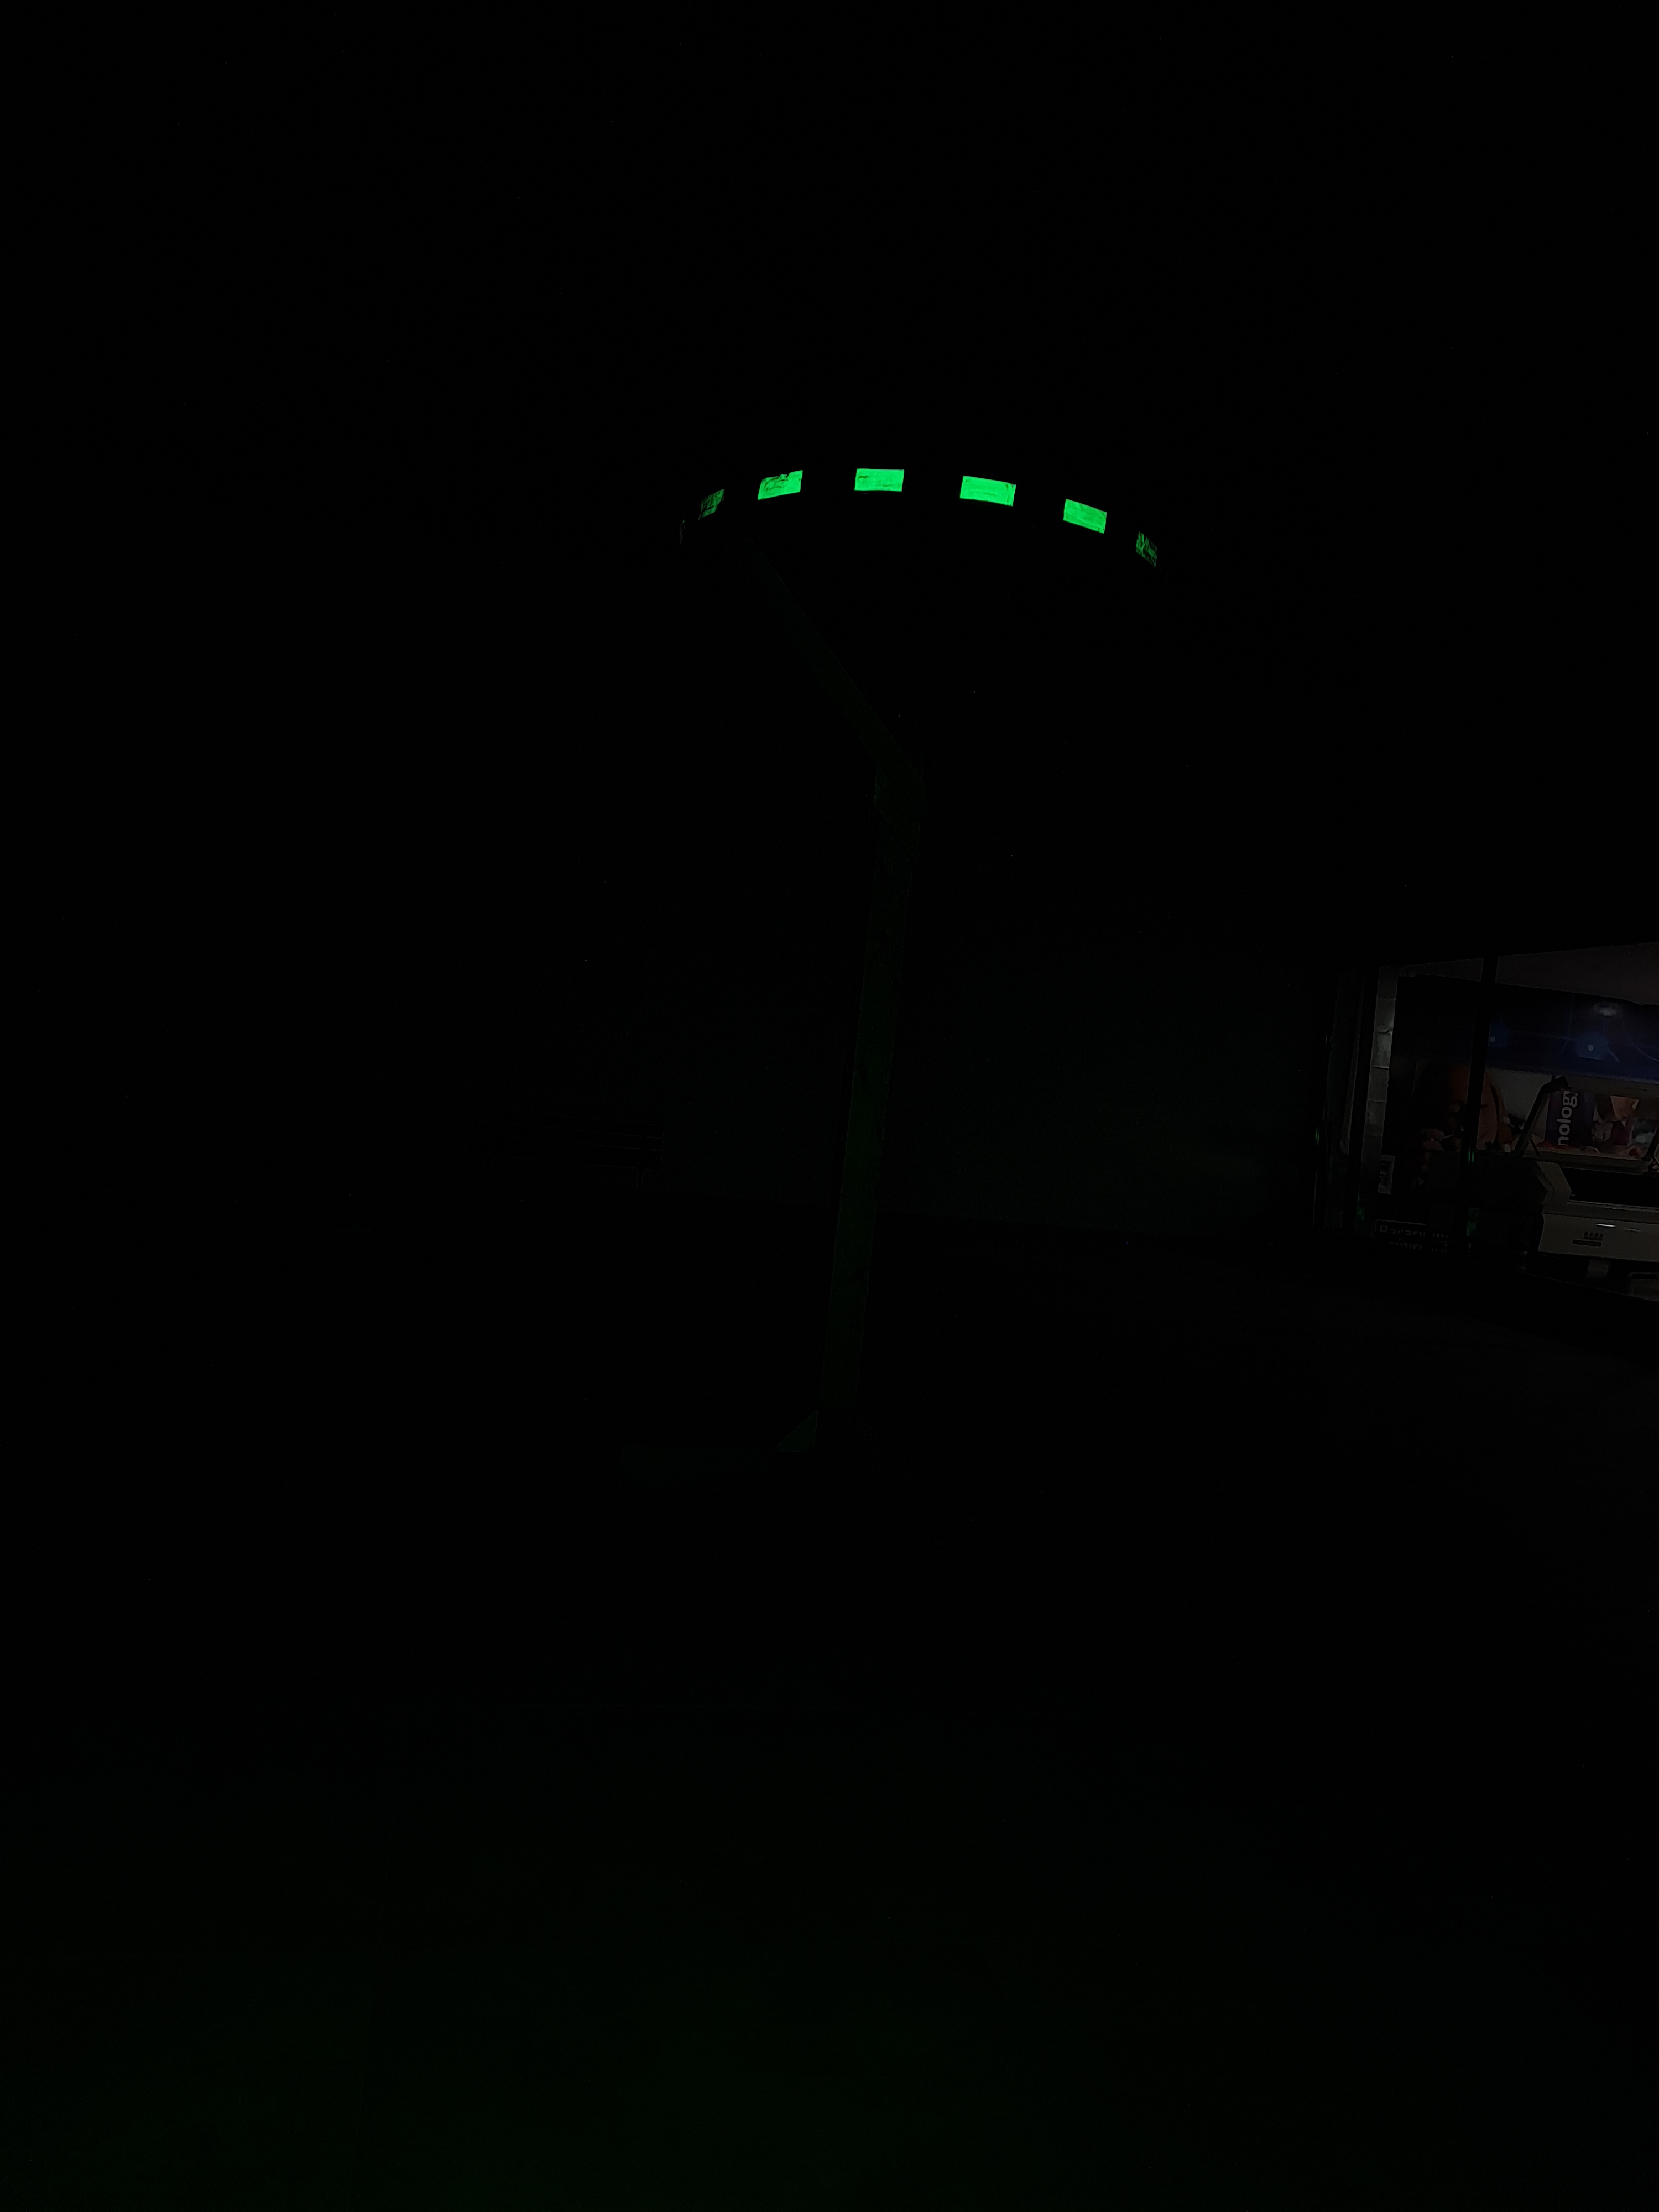hoop: (659, 434, 1187, 599)
